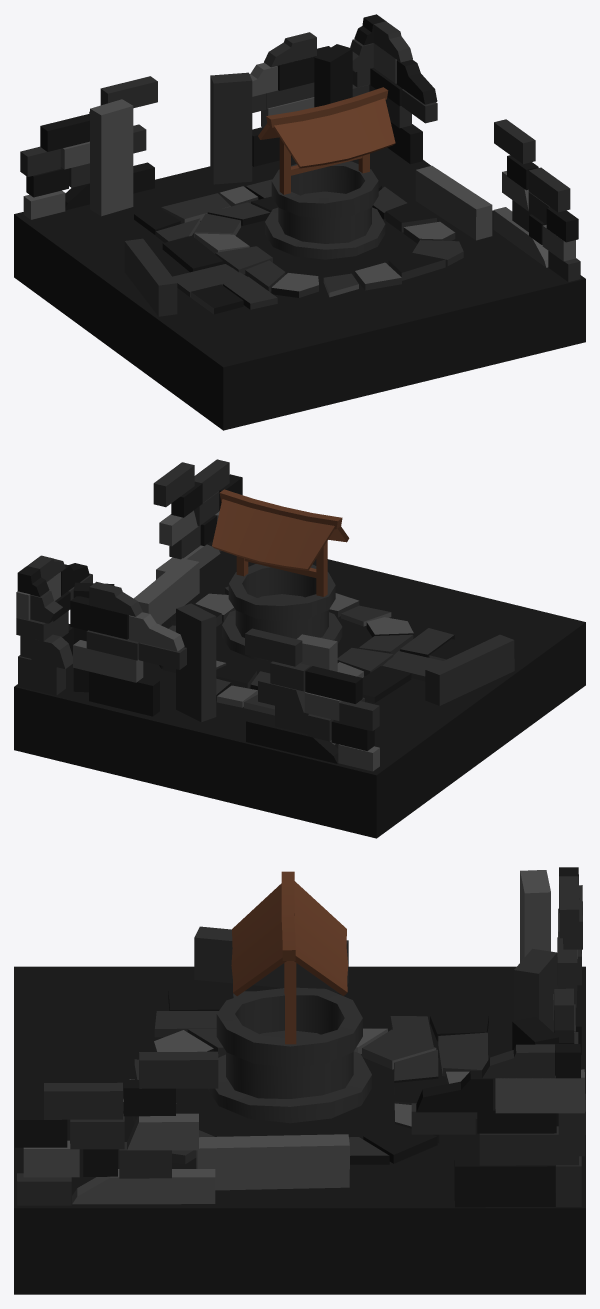
Rendered from deco.fbx.
3 views of the same model, one above another, from view 1: azimuth 30°, elevation 25°; view 2: azimuth 150°, elevation 25°; view 3: azimuth 270°, elevation 25° (orthographic). The views are drawn at different scales.
Visible parts, largest first — view 1: ground002, Well, wall007, wall006, Box023, Box024, Box027, Box026, Box025; view 2: ground002, Well, wall006, wall007, Box024, Box026, Box027, Box023, Box025; view 3: ground002, wall007, Well, Box027, wall006, Box026, Box024, Box023, Box025.
Part boxes in pixels (x1=…): ground002: x1=14, y1=147, x2=585, y2=430; Well: x1=134, y1=87, x2=463, y2=314; wall007: x1=350, y1=14, x2=580, y2=281; wall006: x1=20, y1=32, x2=330, y2=219; Box023: x1=90, y1=99, x2=133, y2=216; Box024: x1=210, y1=72, x2=252, y2=184; Box027: x1=415, y1=165, x2=492, y2=240; Box026: x1=124, y1=238, x2=177, y2=316; Box025: x1=314, y1=44, x2=352, y2=107; ground002: x1=14, y1=551, x2=585, y2=838; Well: x1=159, y1=489, x2=477, y2=715; wall006: x1=70, y1=581, x2=379, y2=771; wall007: x1=16, y1=459, x2=242, y2=695; Box024: x1=176, y1=603, x2=216, y2=722; Box026: x1=425, y1=634, x2=514, y2=705; Box027: x1=134, y1=558, x2=199, y2=624; Box023: x1=297, y1=634, x2=337, y2=744; Box025: x1=73, y1=582, x2=114, y2=692; ground002: x1=14, y1=966, x2=585, y2=1294; wall007: x1=15, y1=1044, x2=585, y2=1207; Well: x1=123, y1=871, x2=488, y2=1164; Box027: x1=196, y1=1134, x2=349, y2=1190; wall006: x1=553, y1=867, x2=582, y2=1054; Box026: x1=194, y1=926, x2=348, y2=992; Box024: x1=514, y1=948, x2=557, y2=1032; Box023: x1=520, y1=870, x2=550, y2=962; Box025: x1=512, y1=1017, x2=558, y2=1126.
Bounding box in the file's own units: 118 × 63.44 × 118.
